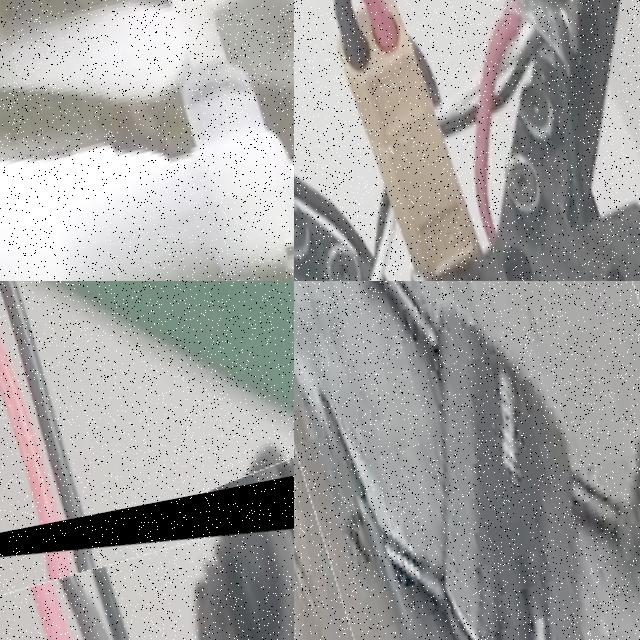0: (294, 281, 640, 640)
drone: (294, 0, 640, 281), (0, 0, 294, 281), (0, 460, 294, 640)
